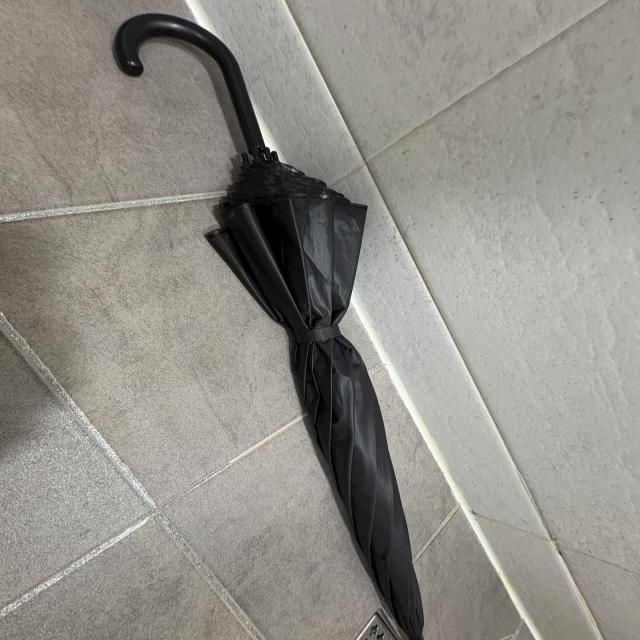umbrella: (114, 11, 427, 640)
